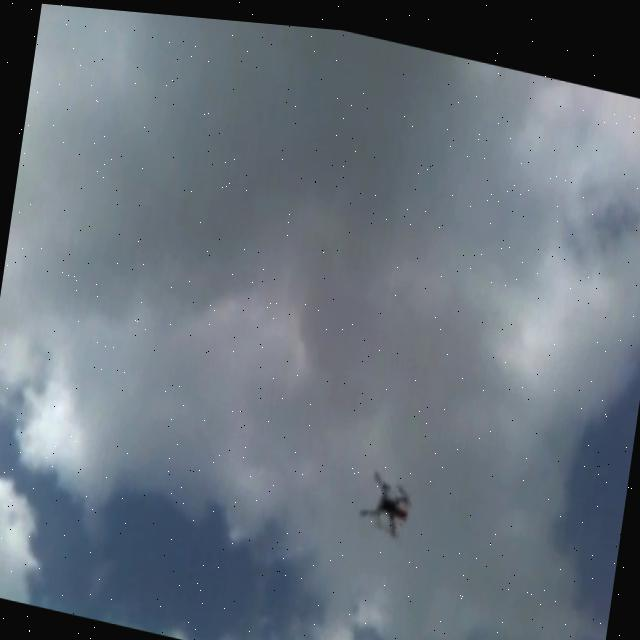drone: (355, 452, 416, 539)
